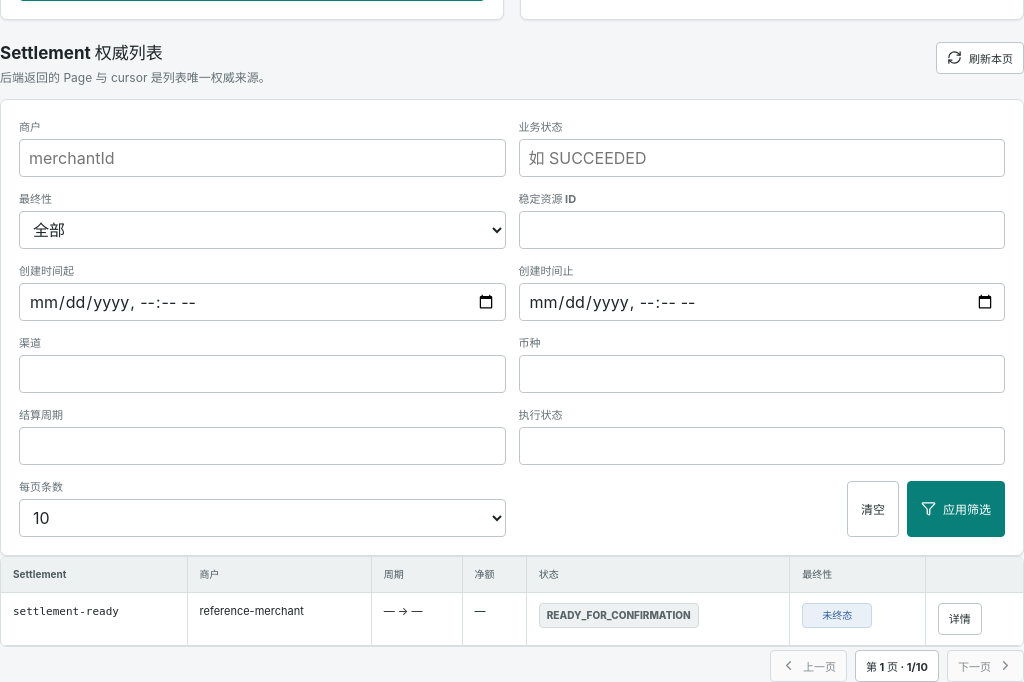
Test case: 次级资源权威详情与刷新 › 结算命令使用当前权威资源回读，并刷新列表
This screenshot has width=1024, height=682.
(page scrolled)
Click the button "详情" at [960, 619], box [938,603,982,635]
(page scrolled)
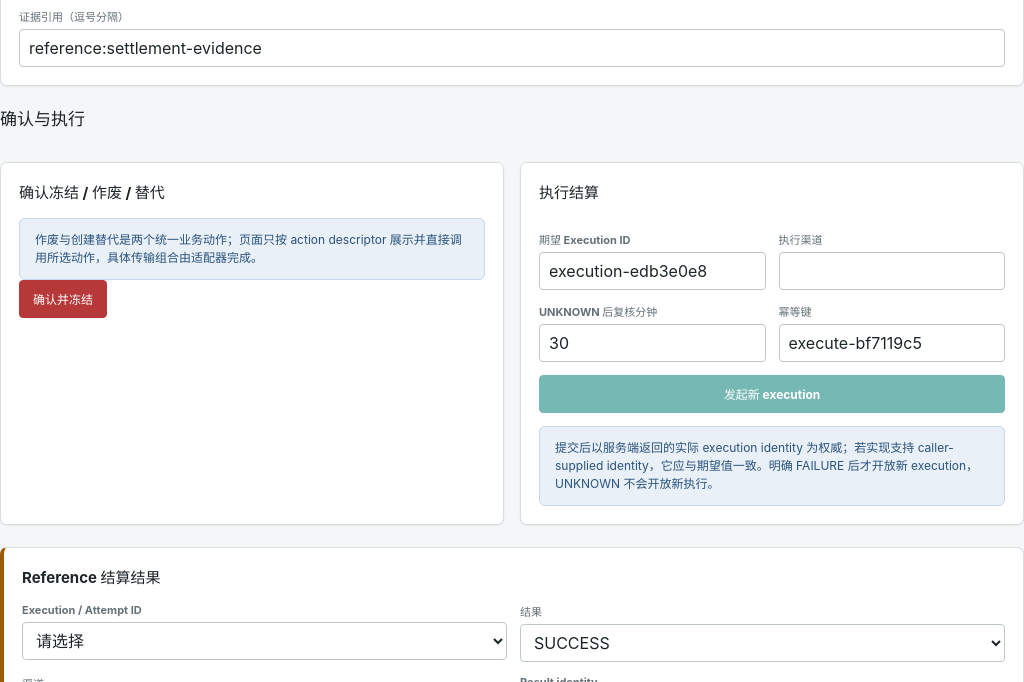
Click the button "确认并冻结" at [63, 299], box [19,280,107,318]
(page scrolled)
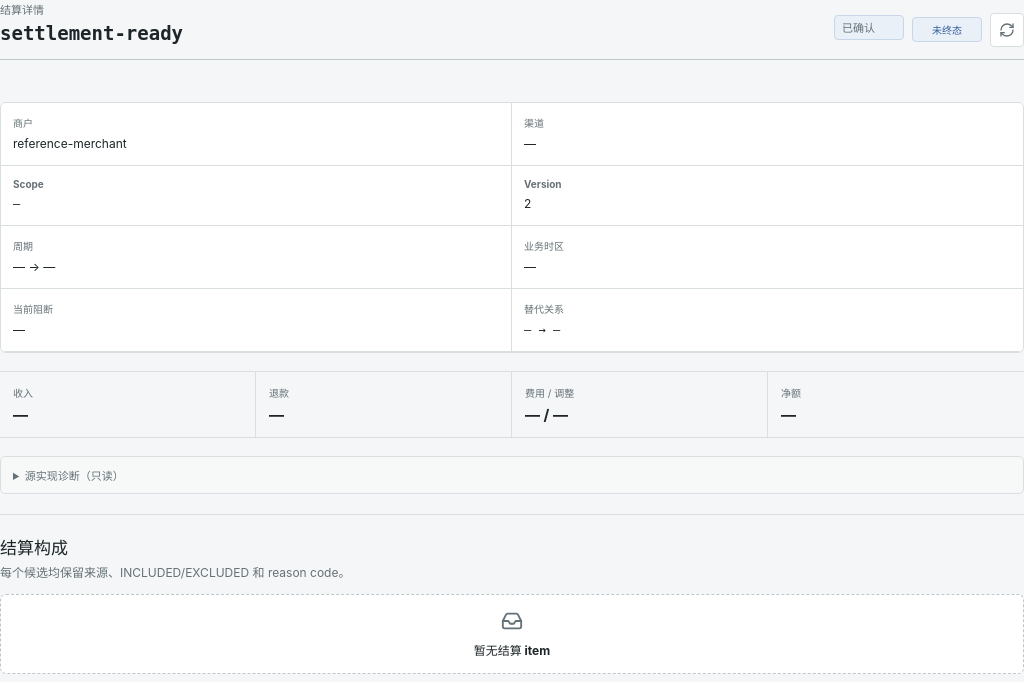
Now the element with class "detail-band" shows "2", box [524,196,531,211]
